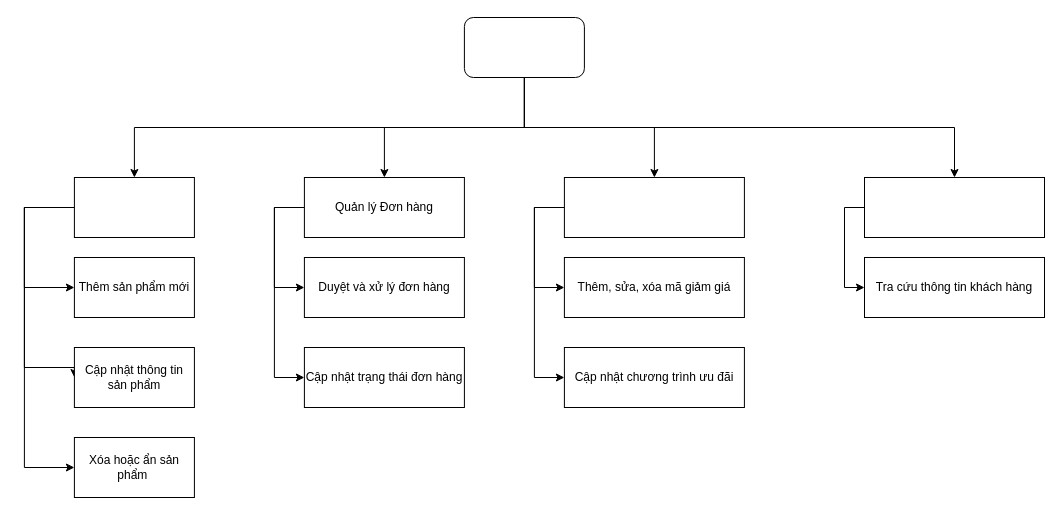
Image size: 1063x515. Some labels were removed from this diagram. Each missing label, with the box of its shape:
Nhân Viên: (463, 16, 584, 78)
Quản lý Khuyến mãi: (563, 176, 744, 238)
Quản lý khách hàng: (864, 176, 1044, 238)
Quản lý Sản phẩm: (73, 176, 194, 238)
